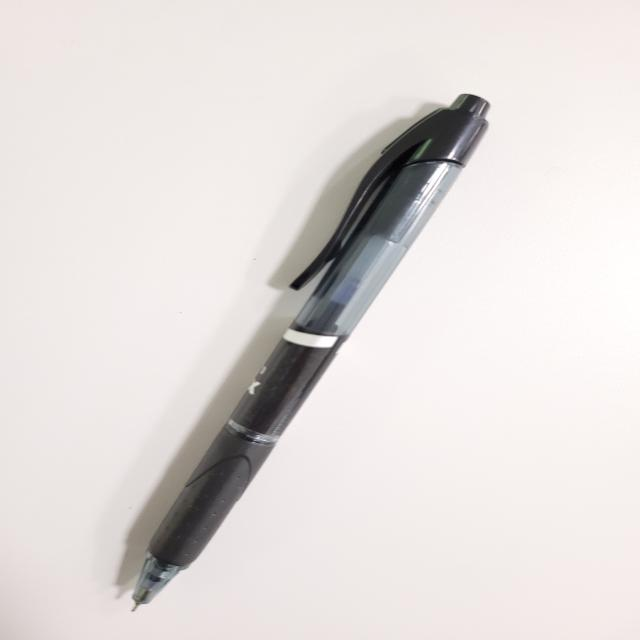caneta: (77, 81, 542, 636)
